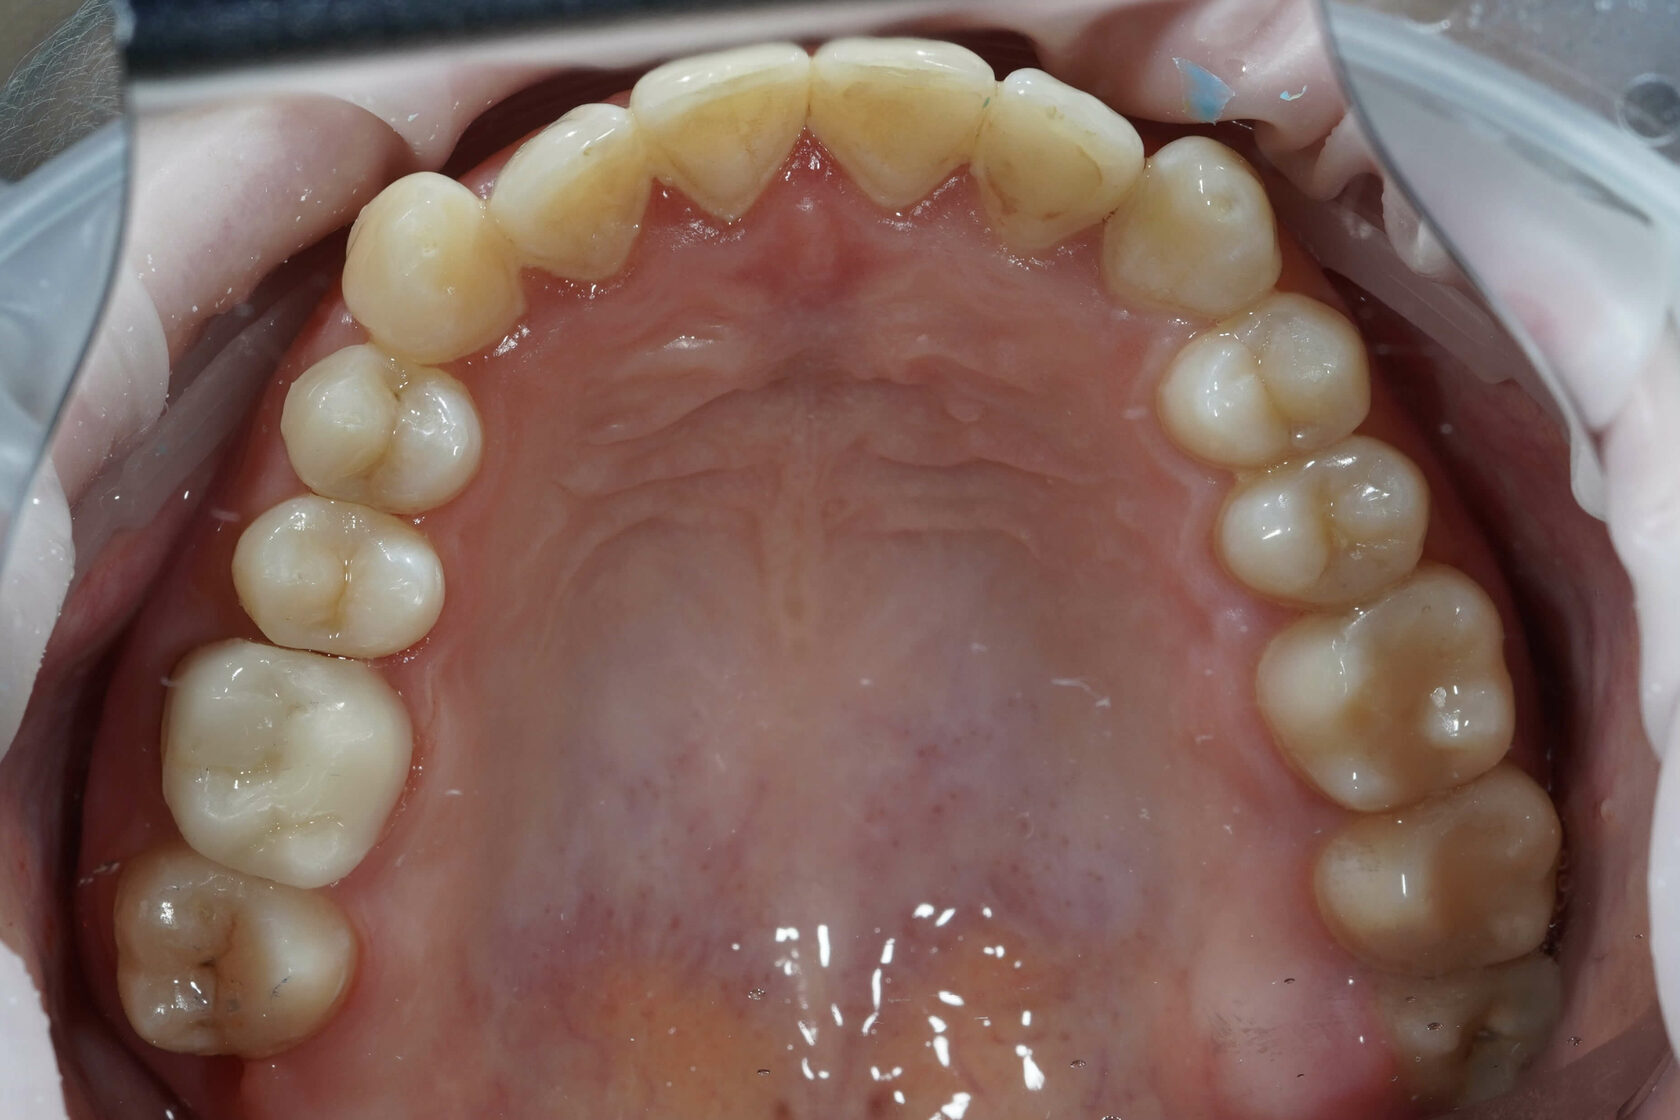UL1BC_decay: (1150, 305, 1360, 467)
UL1M_healthy: (1247, 561, 1511, 812)
UL2BC_decay: (1221, 437, 1424, 602)
UL2M_healthy: (1327, 772, 1555, 970)
ULCI_healthy: (806, 27, 977, 241)
ULC_healthy: (1086, 136, 1262, 319)
ULLI_decay: (975, 74, 1134, 260)
UR1BC_decay: (271, 342, 481, 497)
UR1M_healthy: (157, 639, 411, 902)
UR2BC_decay: (227, 492, 442, 657)
UR2M_decay: (107, 857, 337, 1051)
URCI_decay: (647, 40, 812, 231)
URC_healthy: (342, 172, 522, 360)
URLI_healthy: (499, 102, 639, 307)
